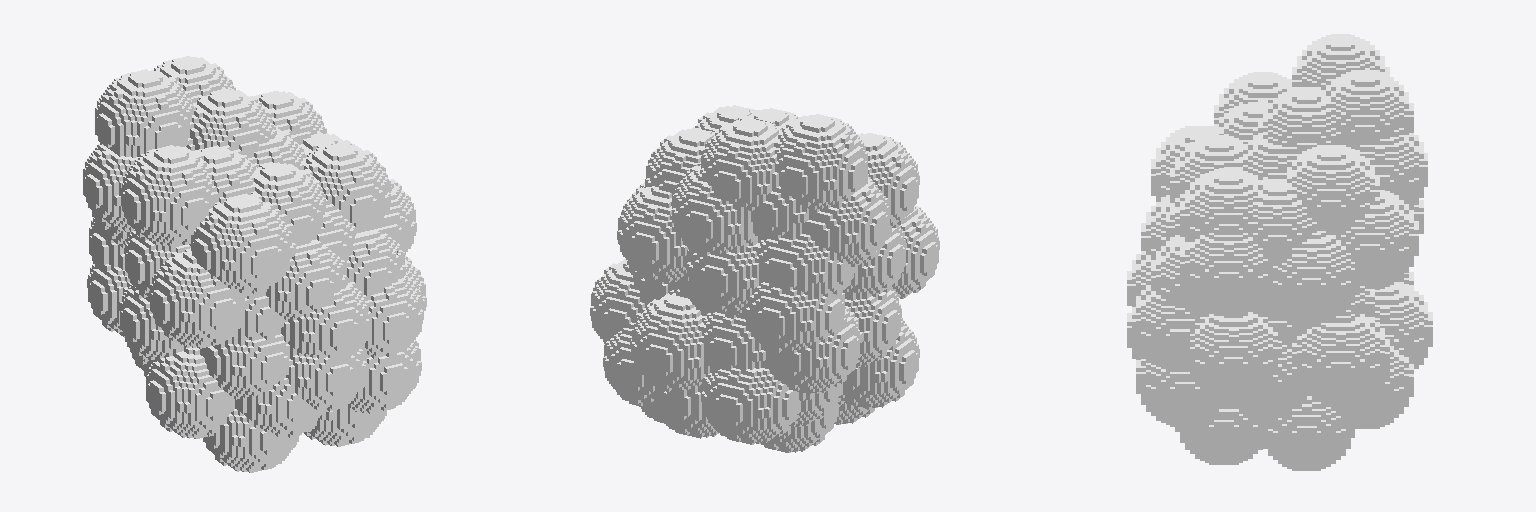
File: ExtraLargeRock.obj
The picture shows the model from 3 angles: view 1: azimuth 30°, elevation 25°; view 2: azimuth 150°, elevation 25°; view 3: azimuth 270°, elevation 25°; orthographic projection.
Visible parts, largest first — view 1: ExtraLargeRock; view 2: ExtraLargeRock; view 3: ExtraLargeRock.
Boxes of the visible parts, <box> form: ExtraLargeRock: <box>83,56,426,472</box>; ExtraLargeRock: <box>590,105,939,452</box>; ExtraLargeRock: <box>1127,34,1432,470</box>.
Bounding box in the file's own units: 66 × 80 × 63.